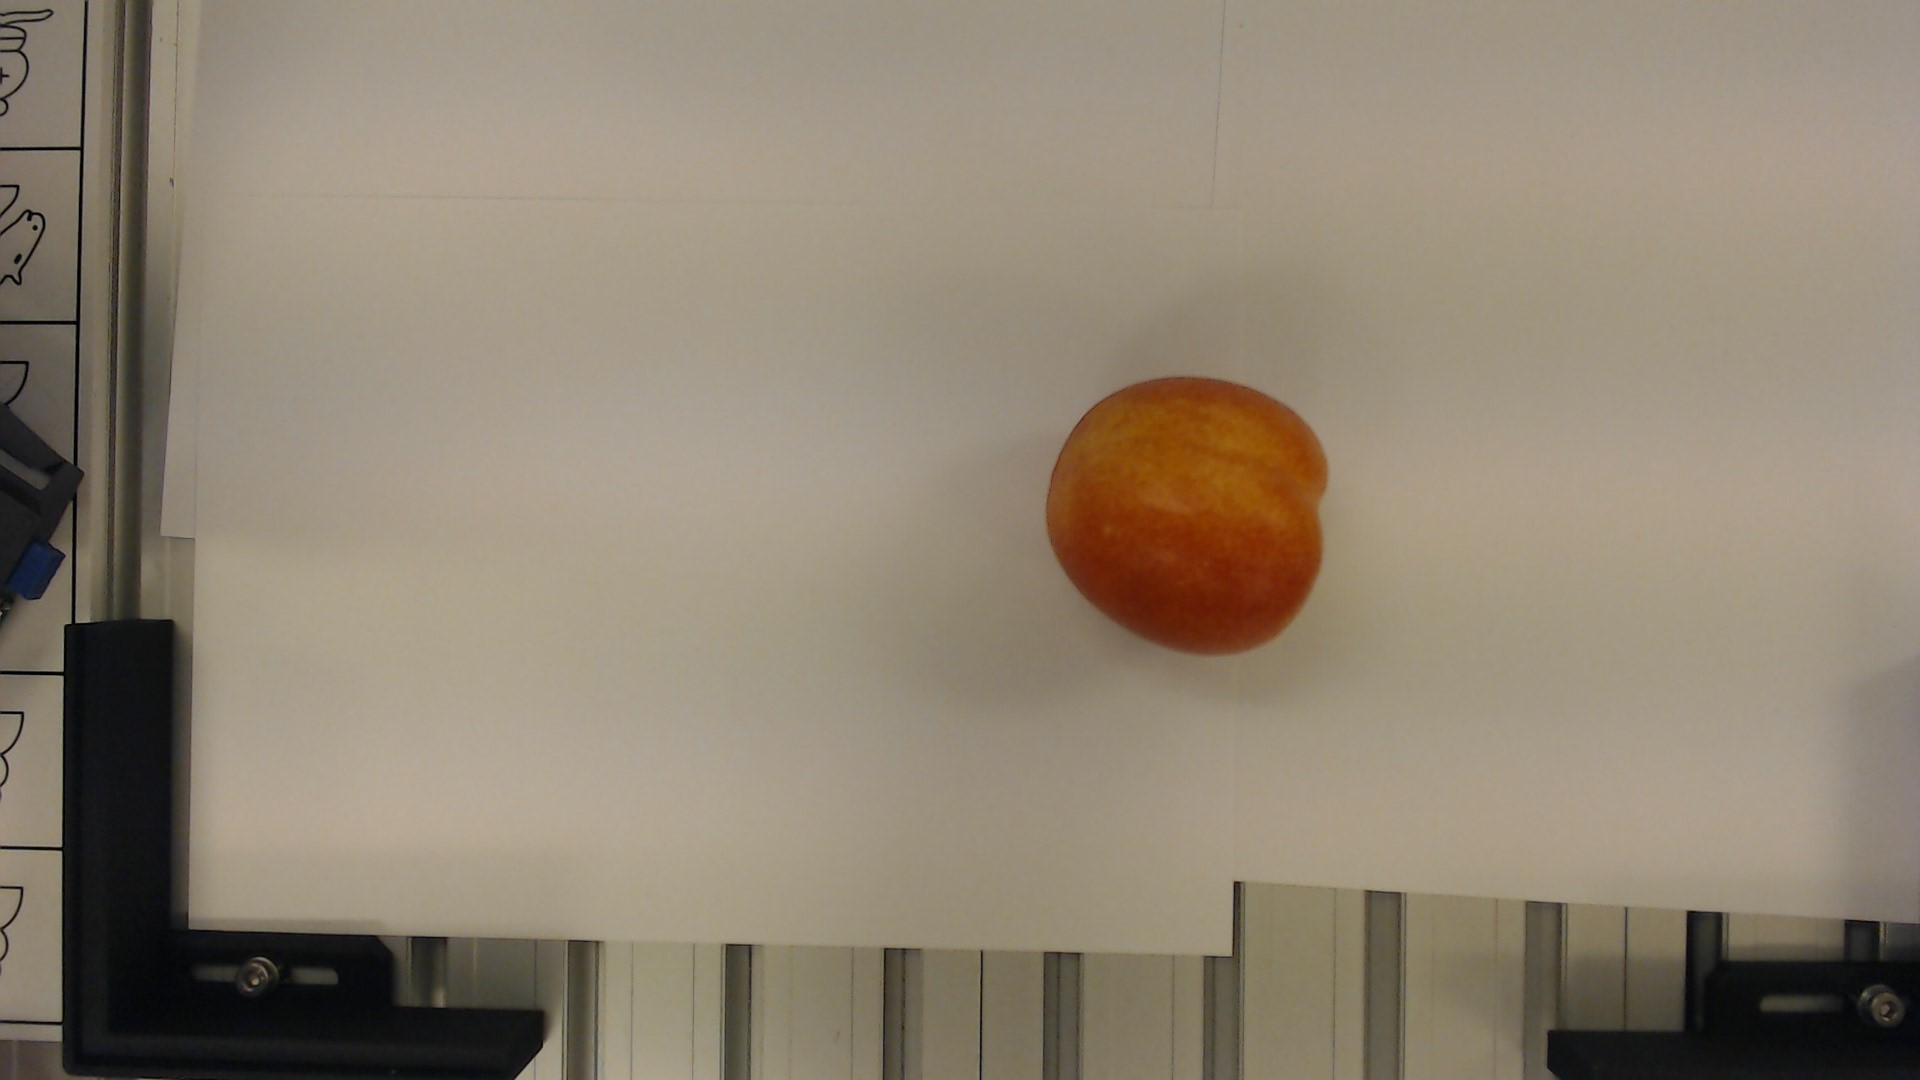Peach: (1046, 378, 1341, 653)
